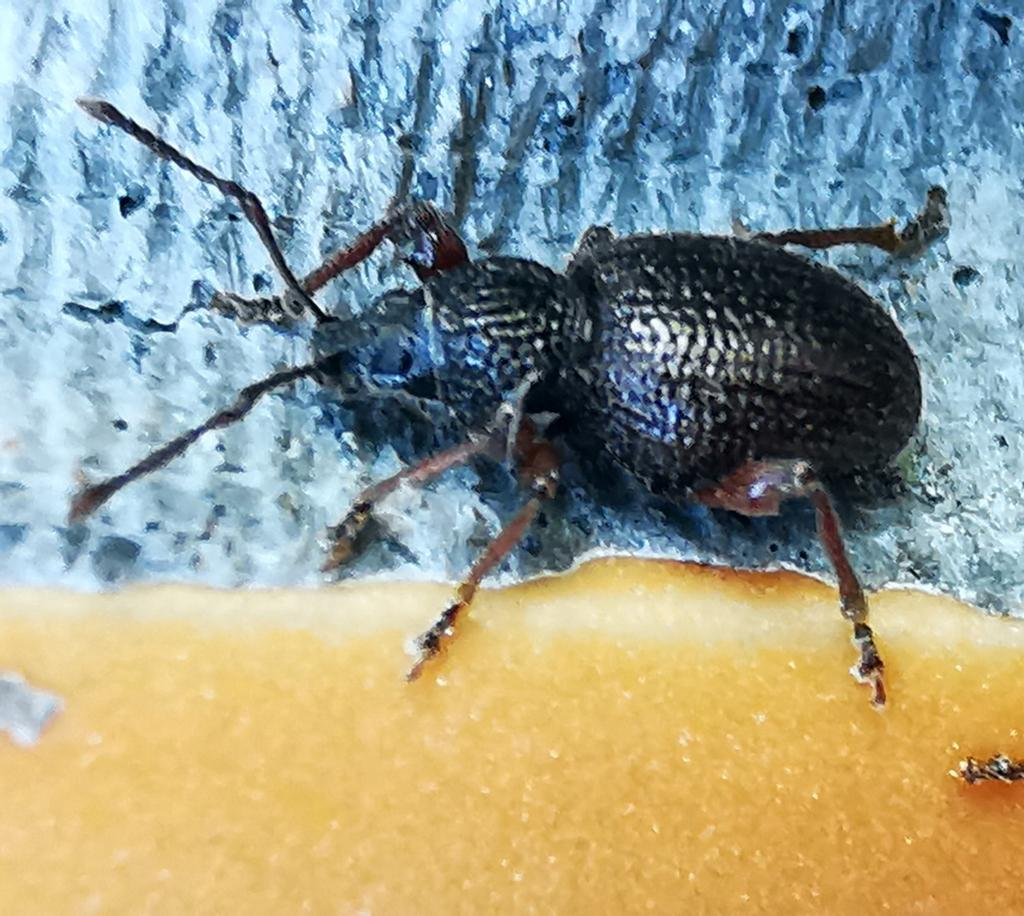weevils: (0, 11, 1024, 793)
